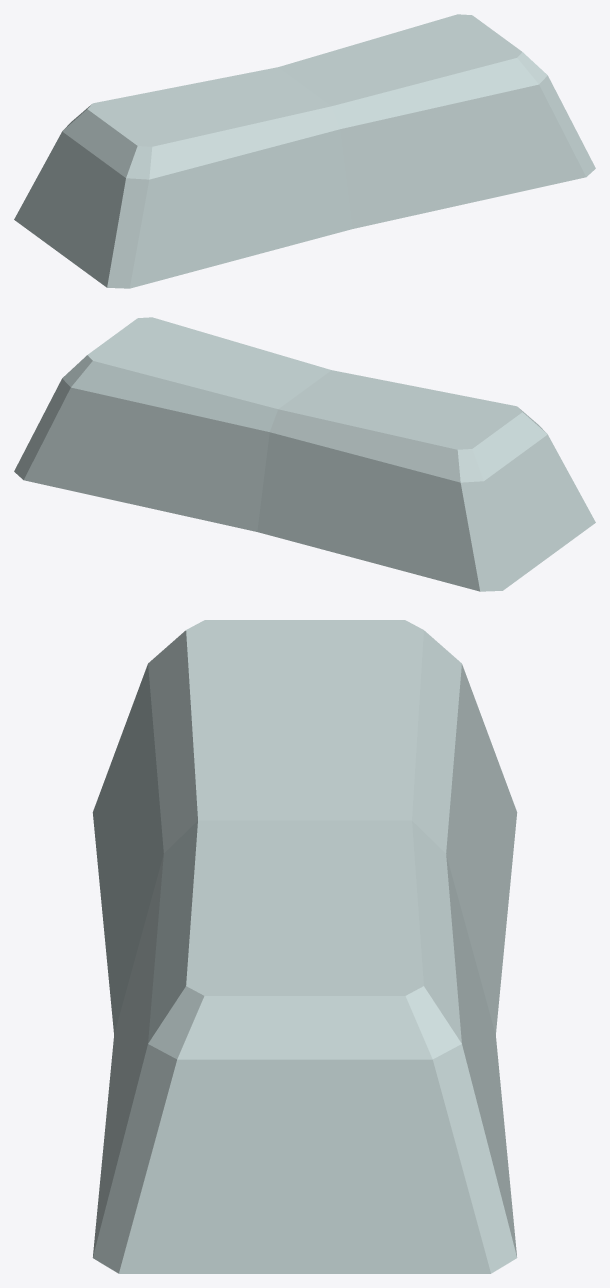
The model's file is SilverIngotA.fbx.
3 renders of one model, top to bottom at view 1: azimuth 30°, elevation 25°; view 2: azimuth 150°, elevation 25°; view 3: azimuth 270°, elevation 25°, orthographic. The views are drawn at different scales.
Visible parts, largest first — view 1: SilverIngotA; view 2: SilverIngotA; view 3: SilverIngotA.
Part boxes in pixels (bbox=[...]): SilverIngotA: bbox=[14, 14, 595, 288]; SilverIngotA: bbox=[14, 317, 595, 591]; SilverIngotA: bbox=[92, 620, 517, 1273].
Bounding box in the file's own units: 64.34 × 14.28 × 24.19.
